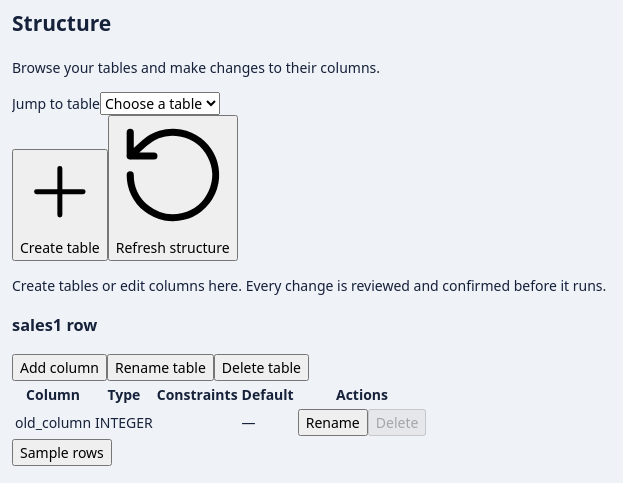
aborts an old schema snapshot when a newer explicit structure refresh starts
The image size is (623, 483).
Check: the text "old_column" is shown, box x1=14 y1=408 x2=92 y2=436
Click the button "Refresh structure": (173, 188) x1=108 y1=115 x2=238 y2=261
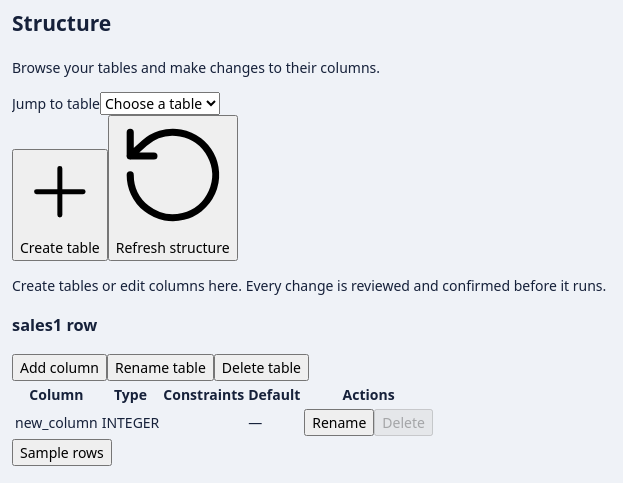
Check: the text "old_column" is gone
Check: the text "new_column" is shown, box x1=14 y1=408 x2=99 y2=436
